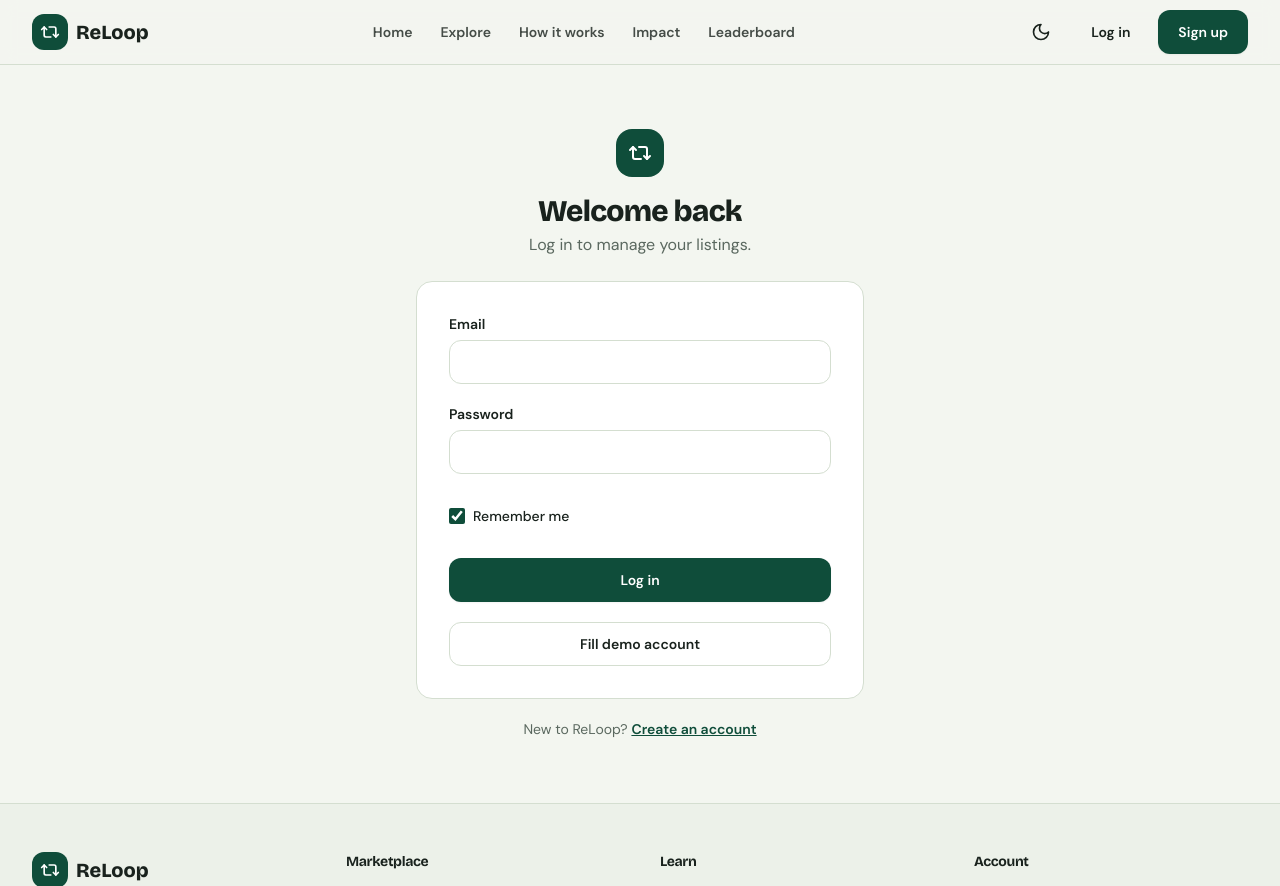
it: Login validation › shows errors for empty and invalid input
Click the button "Log in" at (640, 580), box left=449, top=558, right=831, bottom=602
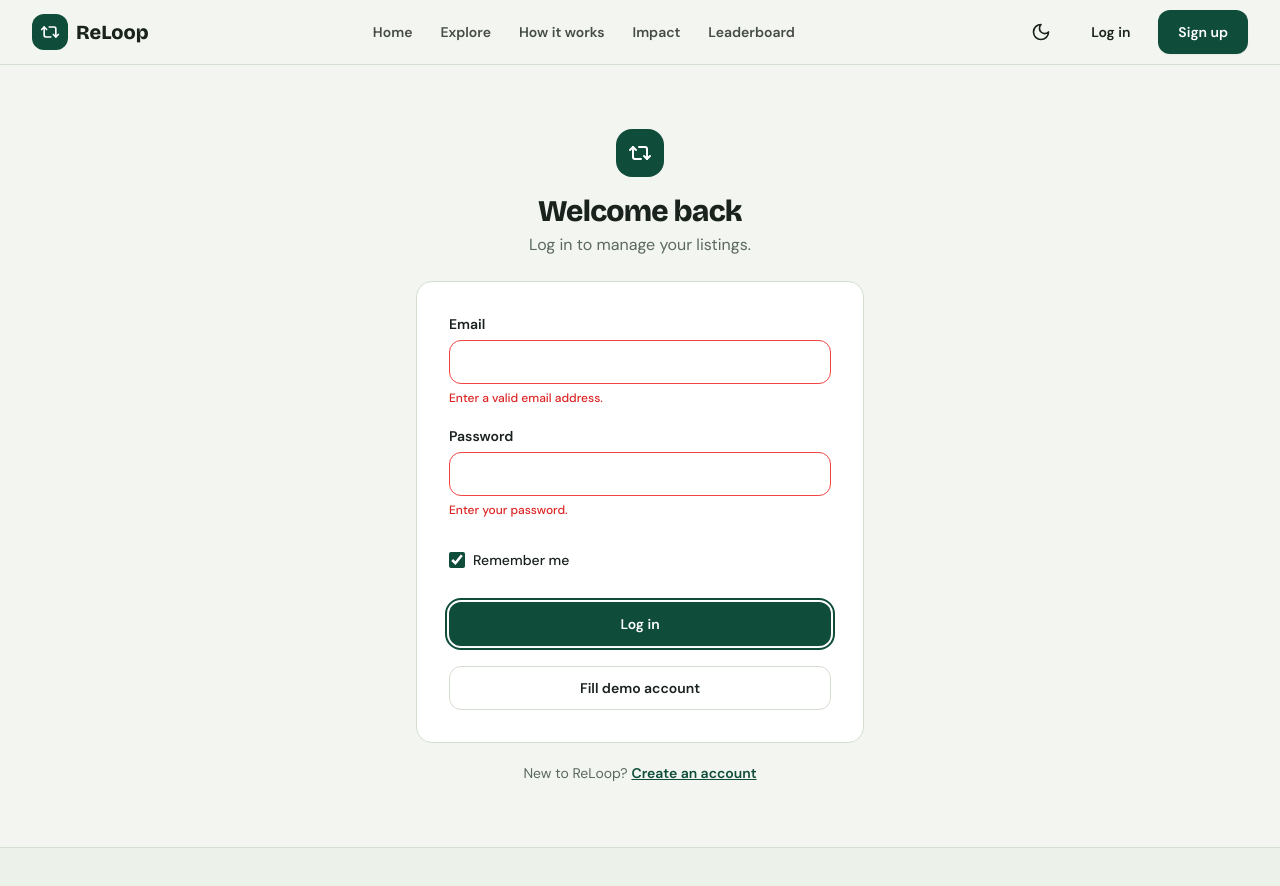
Check: the text "Enter a valid email address." is shown, box left=449, top=390, right=603, bottom=406
Check: the text "Enter your password." is shown, box left=449, top=502, right=568, bottom=518
Type "demo@reloop.edu" into the field labelled "Email" at (640, 362), box left=449, top=340, right=831, bottom=384
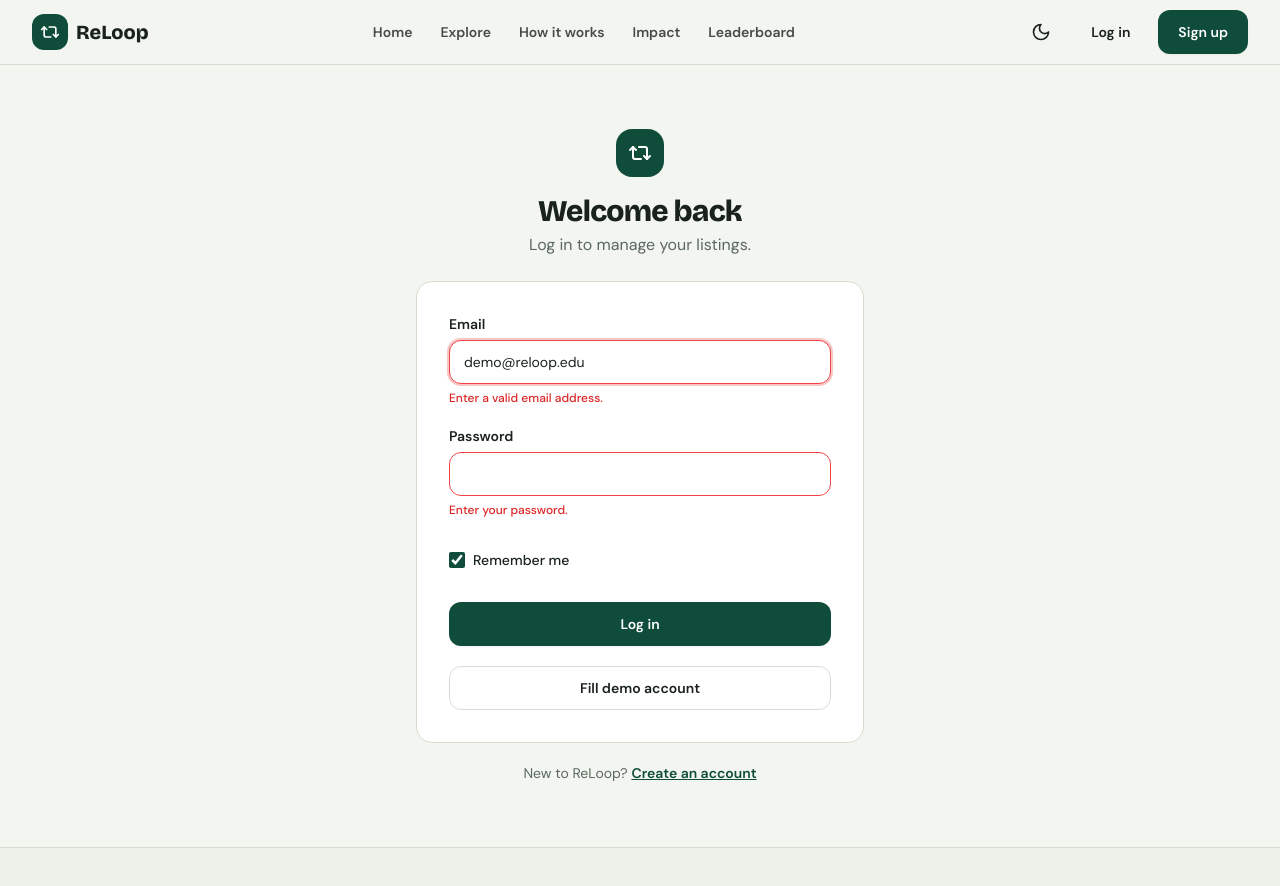
Type "wrongpass1" into the password field labelled "Password" at (640, 474), box left=449, top=452, right=831, bottom=496
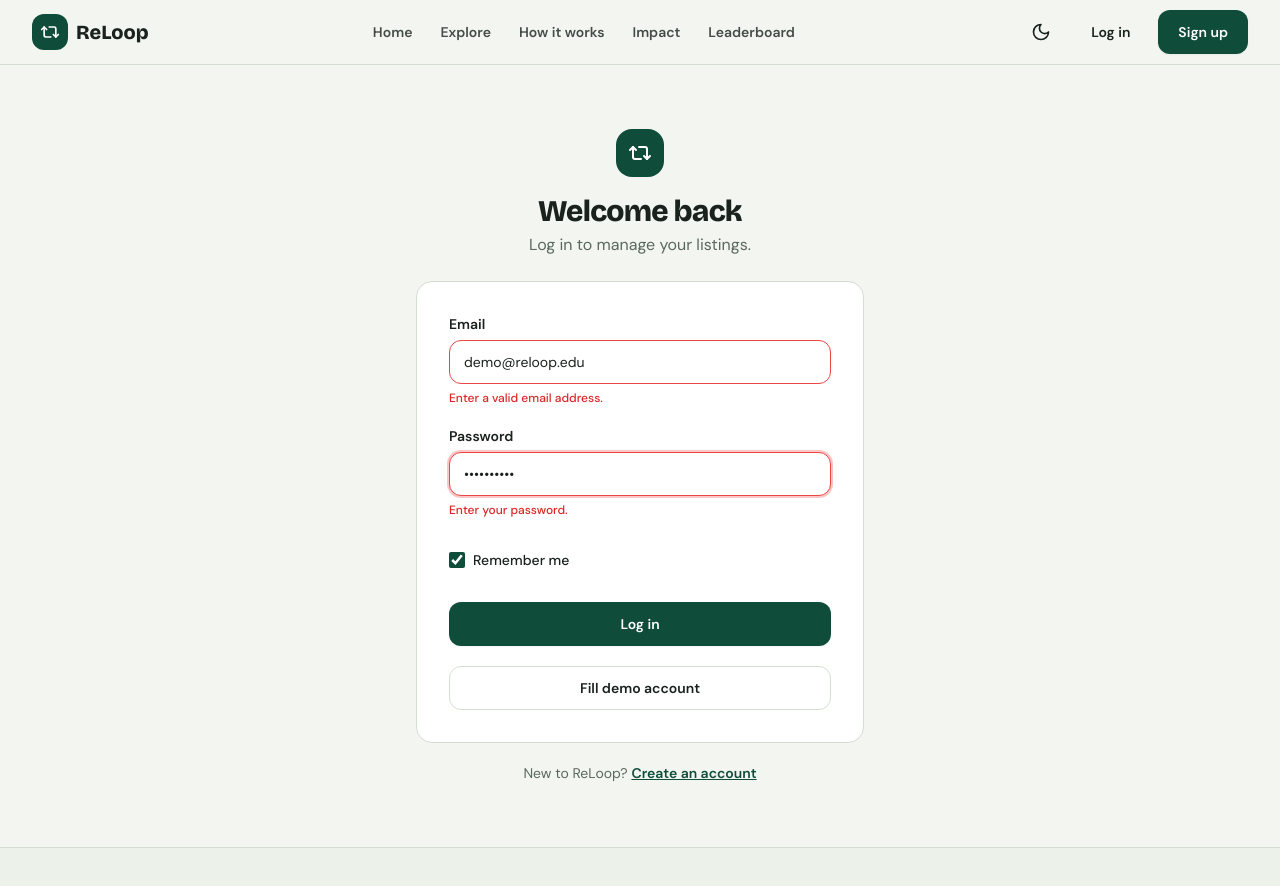
Click the button "Log in" at (640, 624), box left=449, top=602, right=831, bottom=646
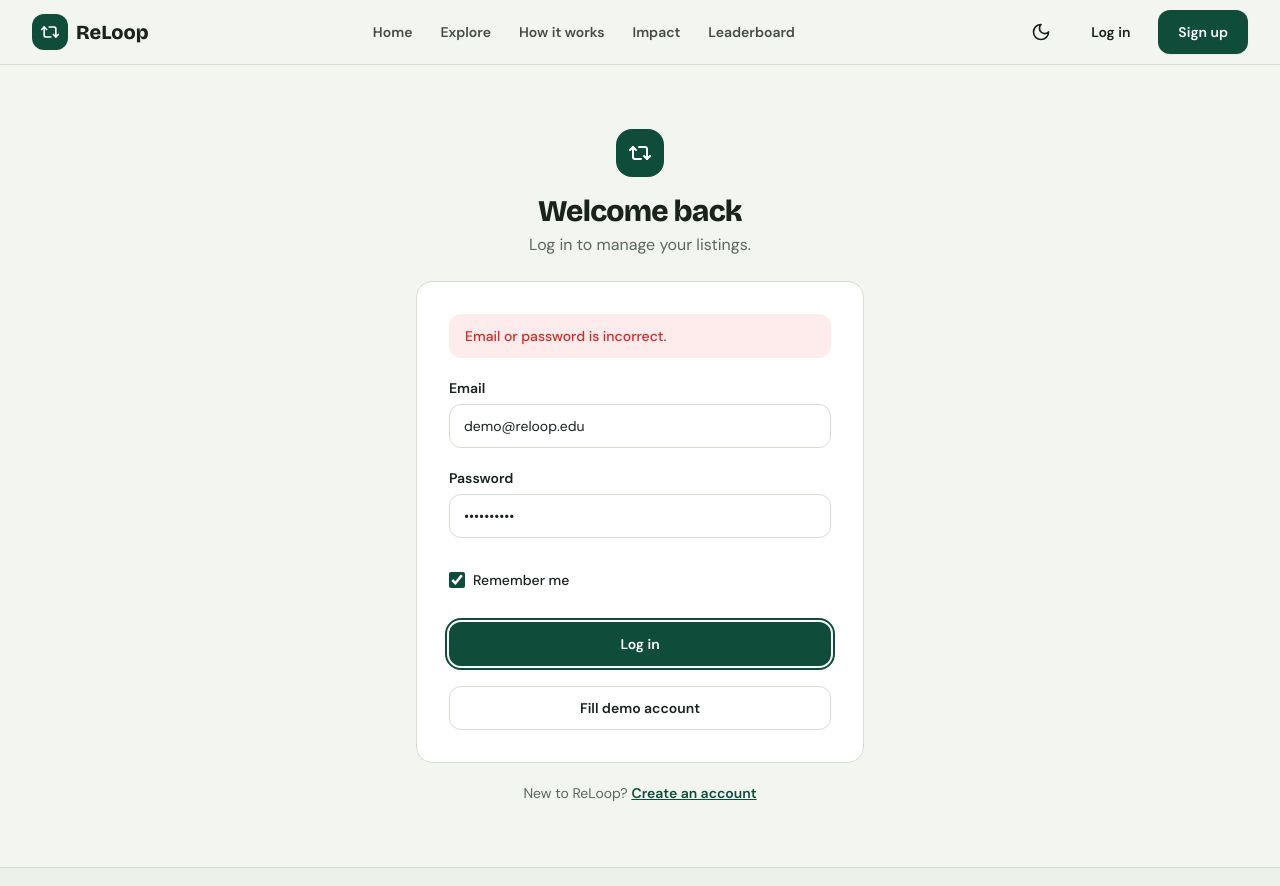
Check: the message reads "Email or password is incorrect.", box left=465, top=327, right=666, bottom=345
